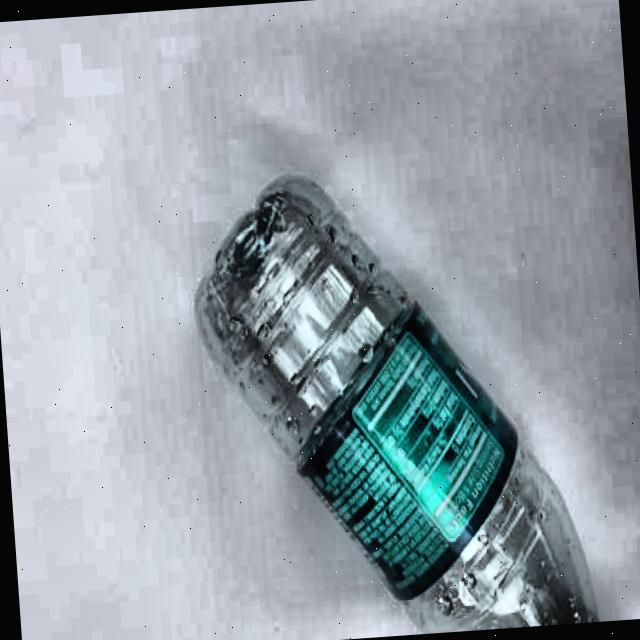plastic: (185, 150, 597, 640)
